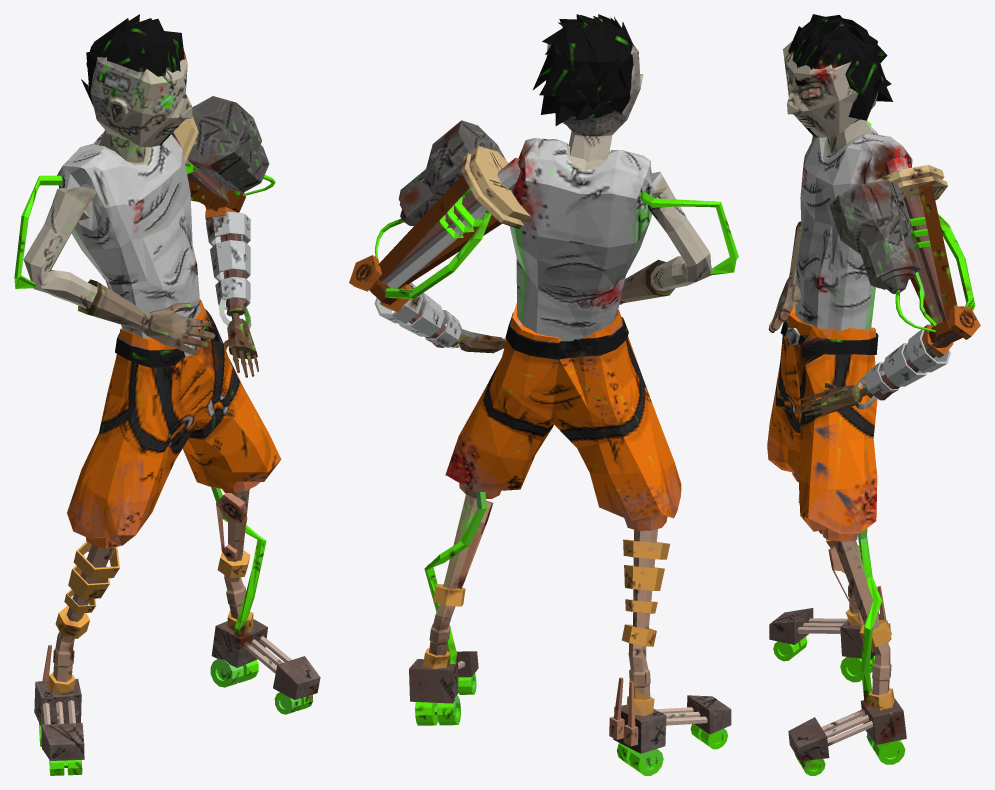
File: CyborgFINALAnimation_000098.obj
The picture shows the model from 3 angles, left to right: view 1: azimuth 30°, elevation 25°; view 2: azimuth 150°, elevation 25°; view 3: azimuth 270°, elevation 25°; orthographic projection. The views are drawn at different scales.
Parts seen in each view (by area): view 1: CyborgMesh_Cube.002; view 2: CyborgMesh_Cube.002; view 3: CyborgMesh_Cube.002.
Part boxes in pixels (<box>): CyborgMesh_Cube.002: <box>14,14,320,775</box>; CyborgMesh_Cube.002: <box>349,14,738,775</box>; CyborgMesh_Cube.002: <box>767,14,980,775</box>.
Size of the model in its own units: 4.29 by 9.6 by 2.7.
